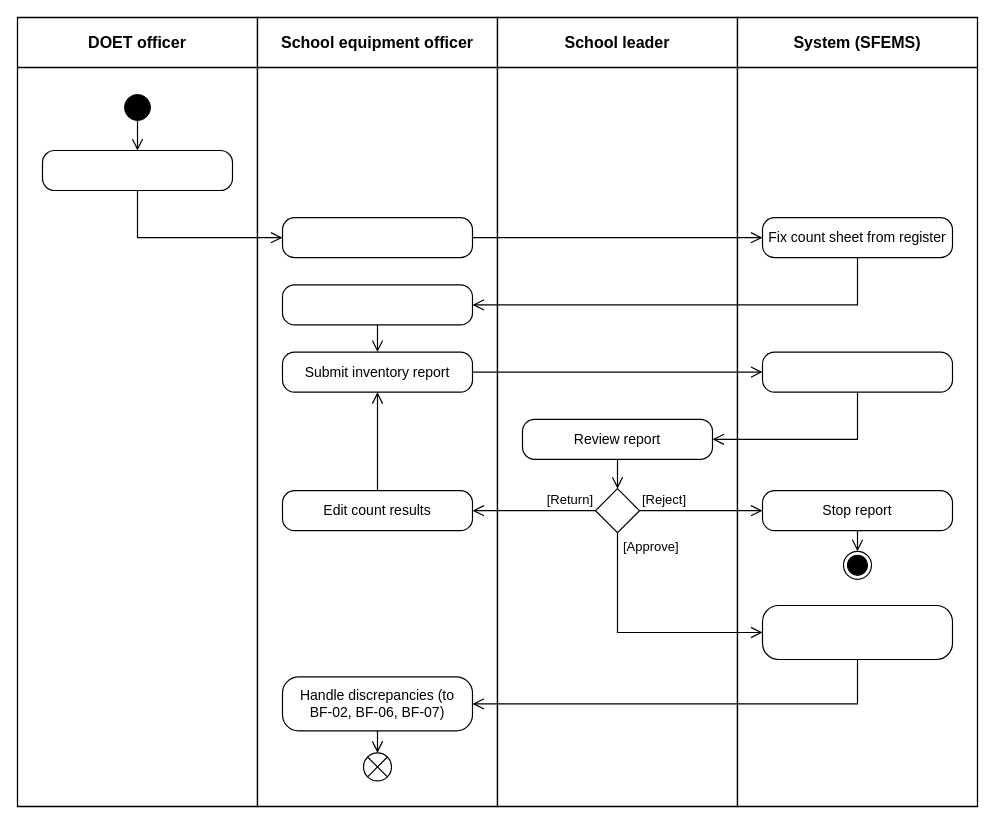
This 996x825 diagram has some shape labels left out. Each missing label, with the centre of its shape:
"Assign number, set Pending approval" belongs at point 857,371.
"Count equipment" belongs at point 377,304.
"Create inventory form" belongs at point 377,237.
"Record history, mark Reported lost, Damaged" belongs at point 857,632.
"Start inventory round" belongs at point 137,170.
